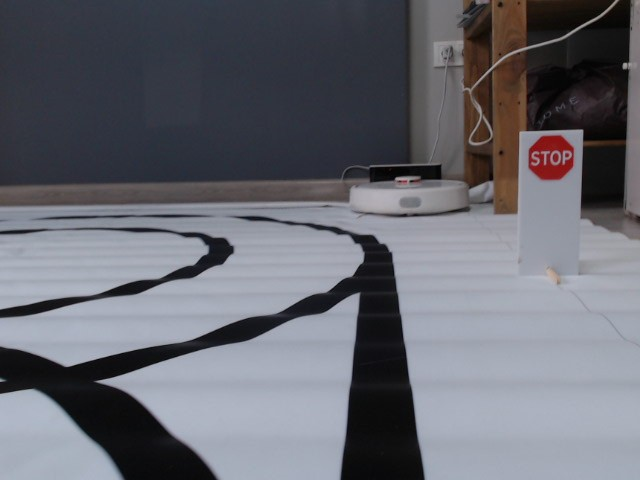Stop: (528, 134, 575, 182)
